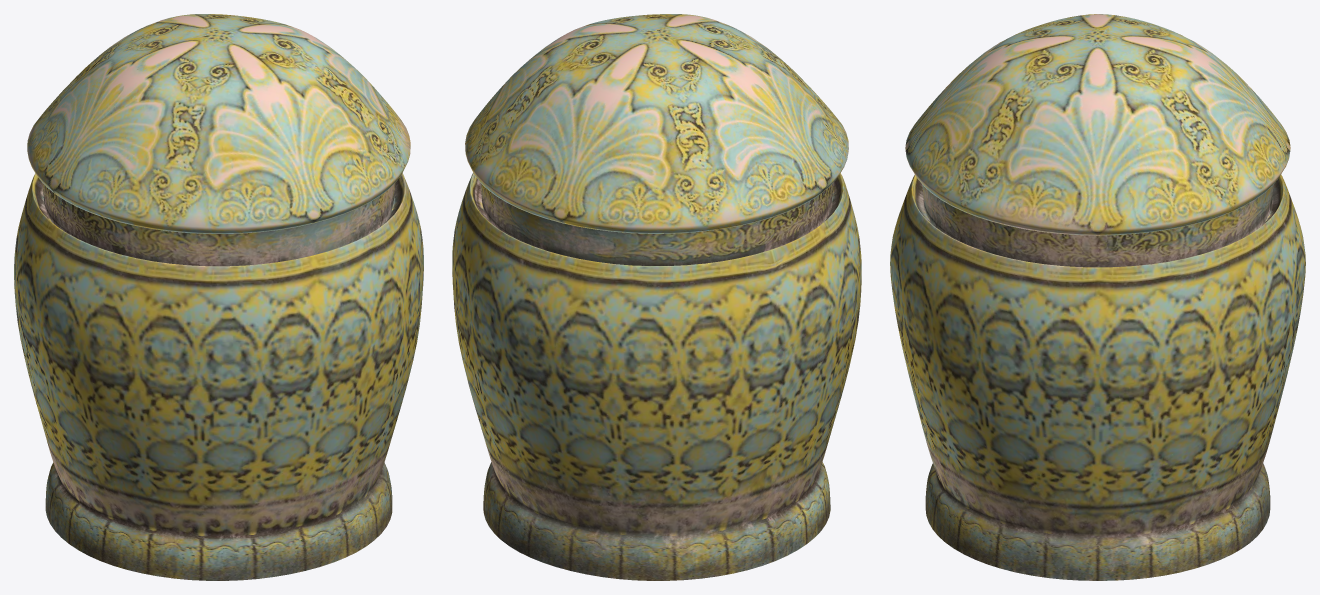
The model's file is urn-transformed.glb.
3 views of the same model, side by side, from view 1: azimuth 30°, elevation 25°; view 2: azimuth 150°, elevation 25°; view 3: azimuth 270°, elevation 25° (orthographic).
Parts seen in each view (by area): view 1: Urne_low_2; view 2: Urne_low_2; view 3: Urne_low_2.
Boxes of the visible parts, x1,y1,x2,y2 form: Urne_low_2: (14, 14, 423, 580); Urne_low_2: (452, 14, 861, 580); Urne_low_2: (890, 14, 1305, 580).
Size of the model in its own units: 1.01 by 1.26 by 1.01.
1 material, 1 textured.
